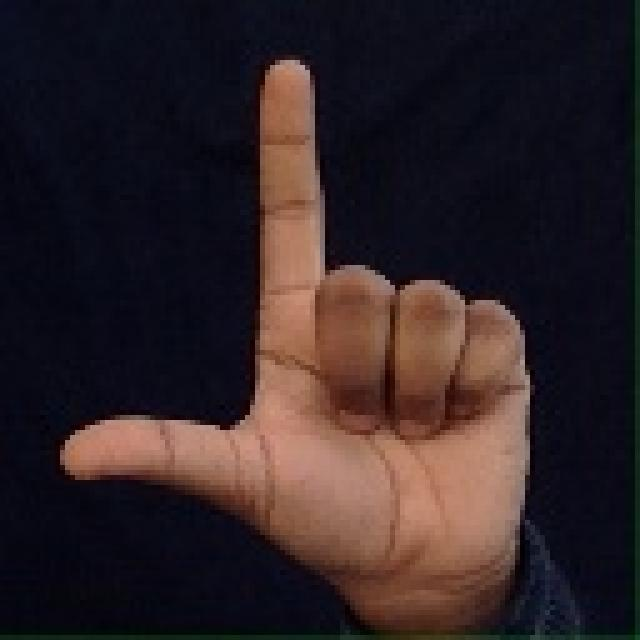Alphabet-L: (44, 42, 547, 594)
